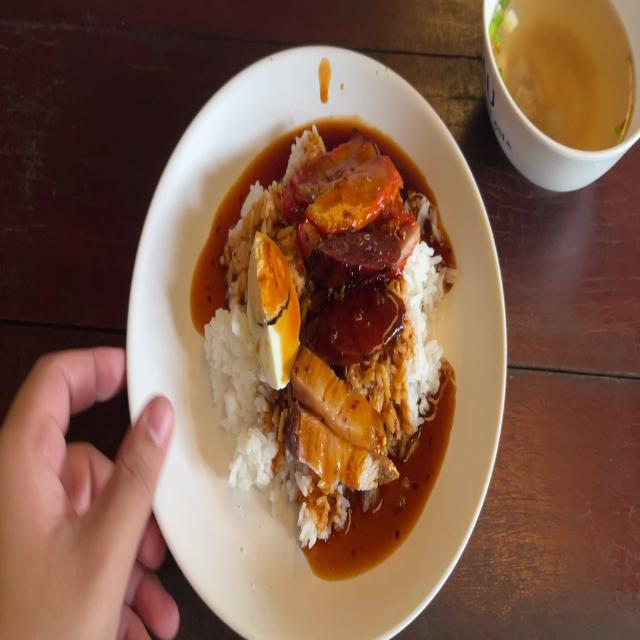01boiled_egg: (245, 232, 298, 376)
01chainese_sausage: (306, 223, 406, 354), (312, 223, 404, 280), (316, 293, 402, 352)
01red_pork: (286, 134, 392, 221), (303, 160, 400, 227)
01red_pork_and_crispy_pork: (206, 132, 443, 538)
01rice: (398, 246, 442, 433), (205, 303, 248, 422), (231, 414, 285, 496), (223, 187, 275, 230)
